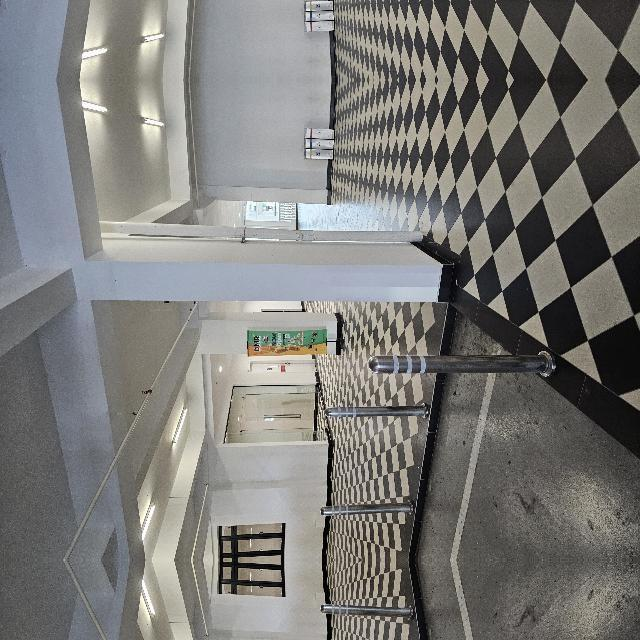obstacle: (172, 446, 210, 634), (172, 486, 209, 640), (204, 324, 246, 422), (136, 406, 160, 510), (41, 398, 64, 494), (397, 379, 437, 417), (135, 610, 160, 640), (40, 625, 63, 640)
